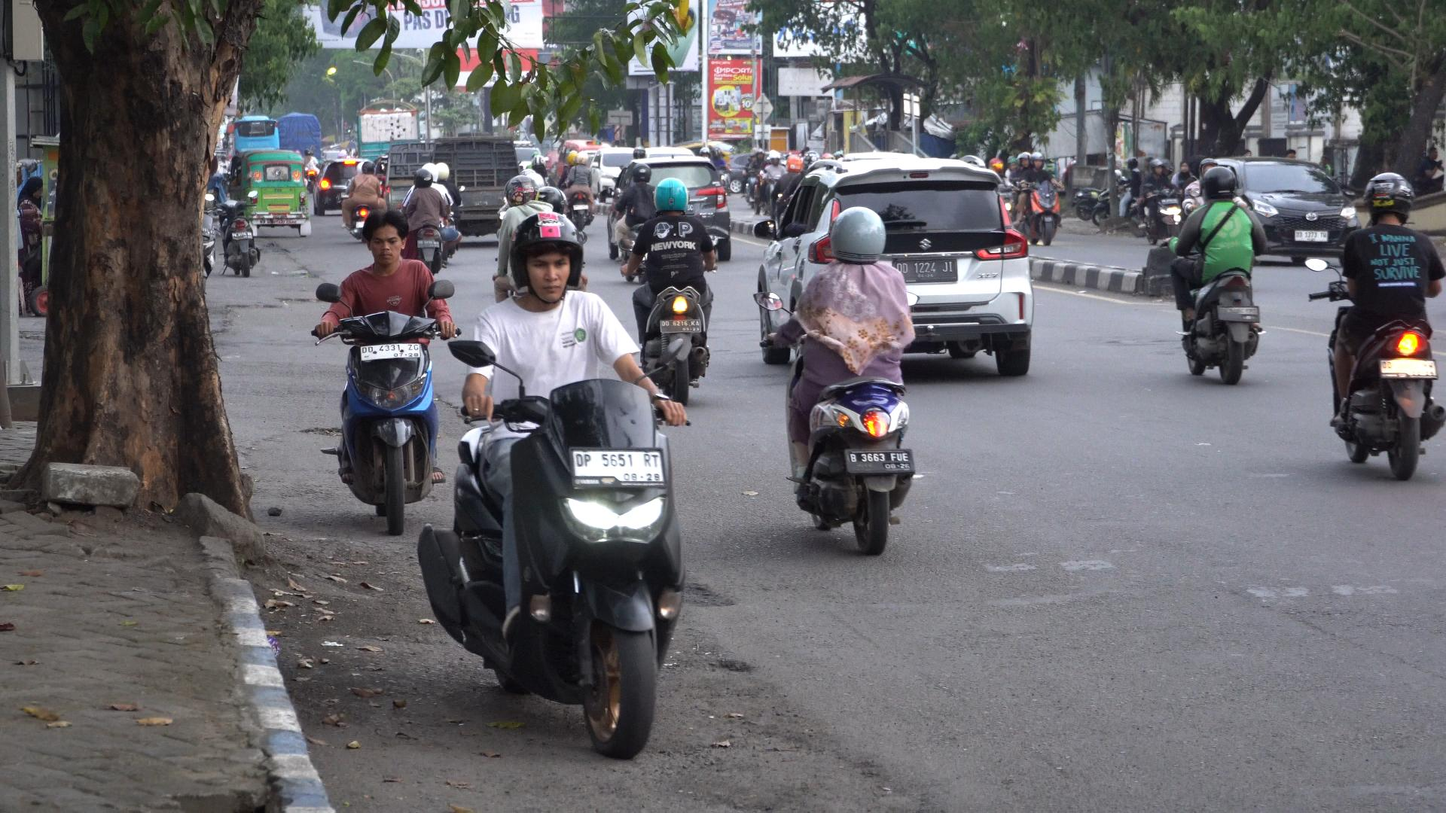number-plate: (569, 445, 664, 493), (360, 341, 422, 364)
